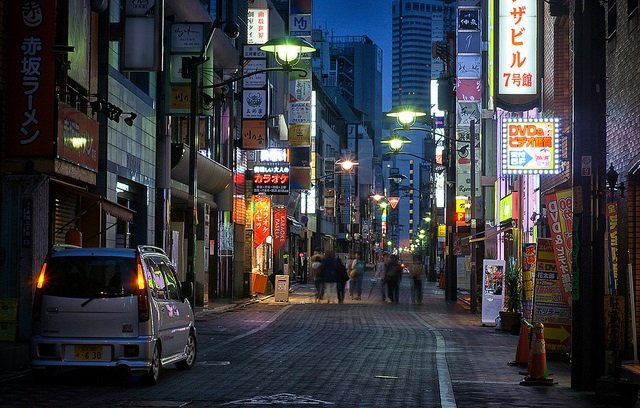car: (23, 240, 201, 390)
